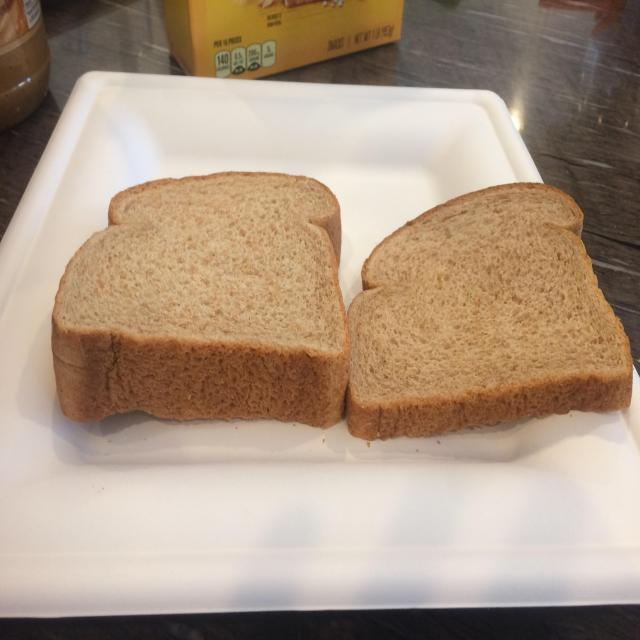Bread: (51, 172, 350, 427), (346, 183, 632, 440)
